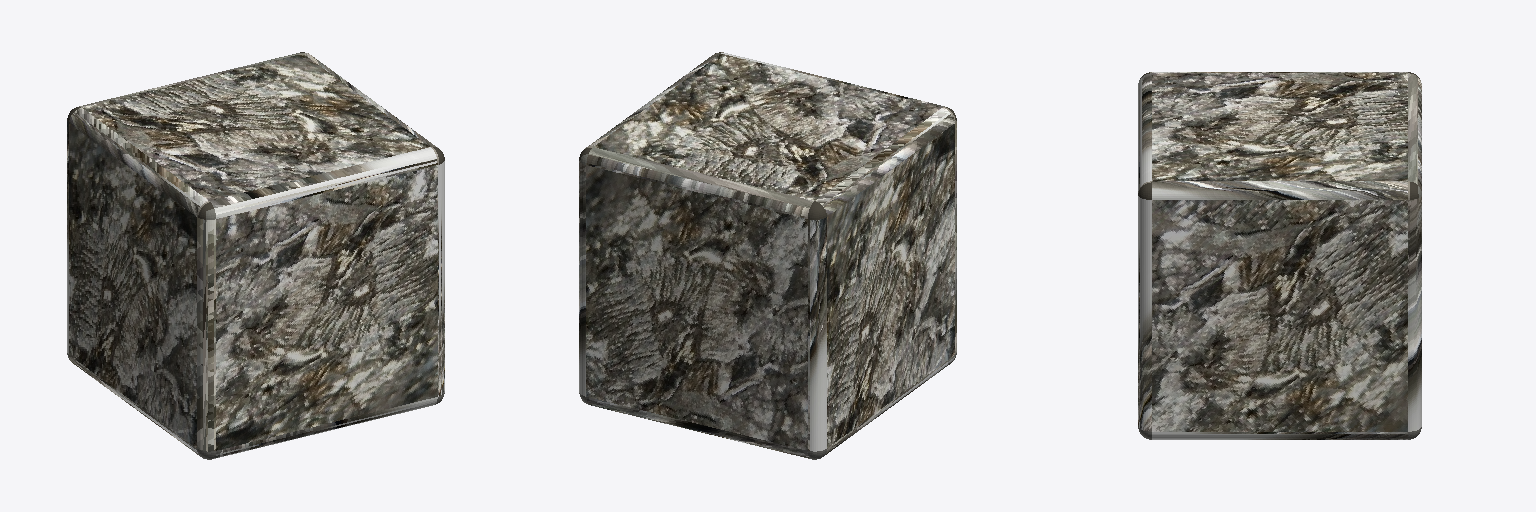
3 views of the same model, side by side, from view 1: azimuth 30°, elevation 25°; view 2: azimuth 150°, elevation 25°; view 3: azimuth 270°, elevation 25° (orthographic).
Visible parts, largest first — view 1: Cube; view 2: Cube; view 3: Cube.
Part boxes in pixels (x1,y1,x2,y2): Cube: (67,52,444,459); Cube: (579,52,956,459); Cube: (1138,72,1421,439).
Bounding box in the file's own units: 2 × 2 × 2.
1 materials, 1 textured.